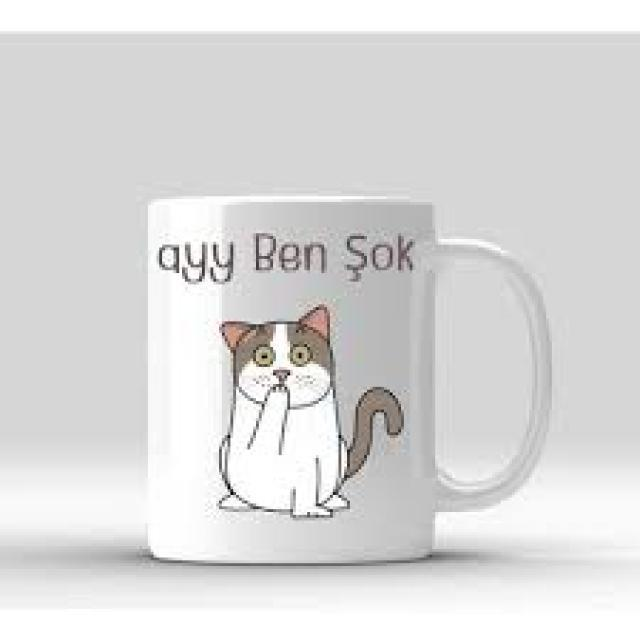taza: (146, 191, 554, 566)
